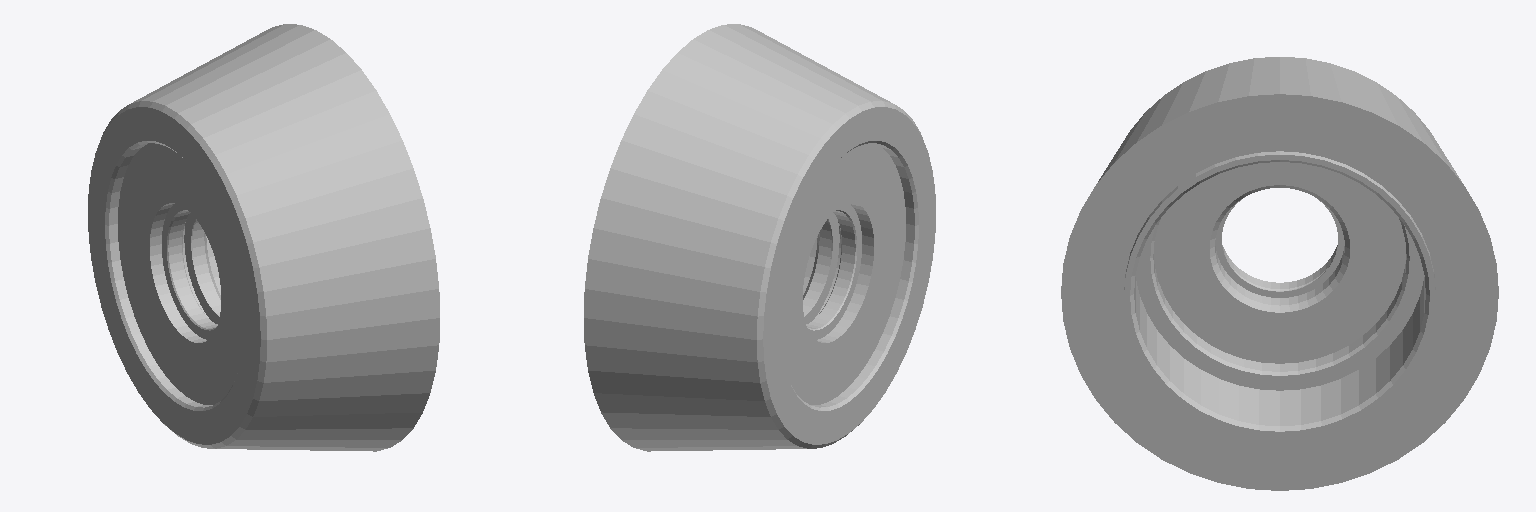
Rendered from RSP1D_Lens.obj.
3 renders of one model, left to right at view 1: azimuth 30°, elevation 25°; view 2: azimuth 150°, elevation 25°; view 3: azimuth 270°, elevation 25°, orthographic.
Parts seen in each view (by area): view 1: polySurface1012 pCylinder133; view 2: polySurface1012 pCylinder133; view 3: polySurface1012 pCylinder133.
Boxes of the visible parts, x1,y1,x2,y2 form: polySurface1012 pCylinder133: [88, 24, 439, 451]; polySurface1012 pCylinder133: [584, 24, 935, 451]; polySurface1012 pCylinder133: [1061, 57, 1498, 490].
Size of the model in its own units: 17.02 by 39.49 by 39.49.